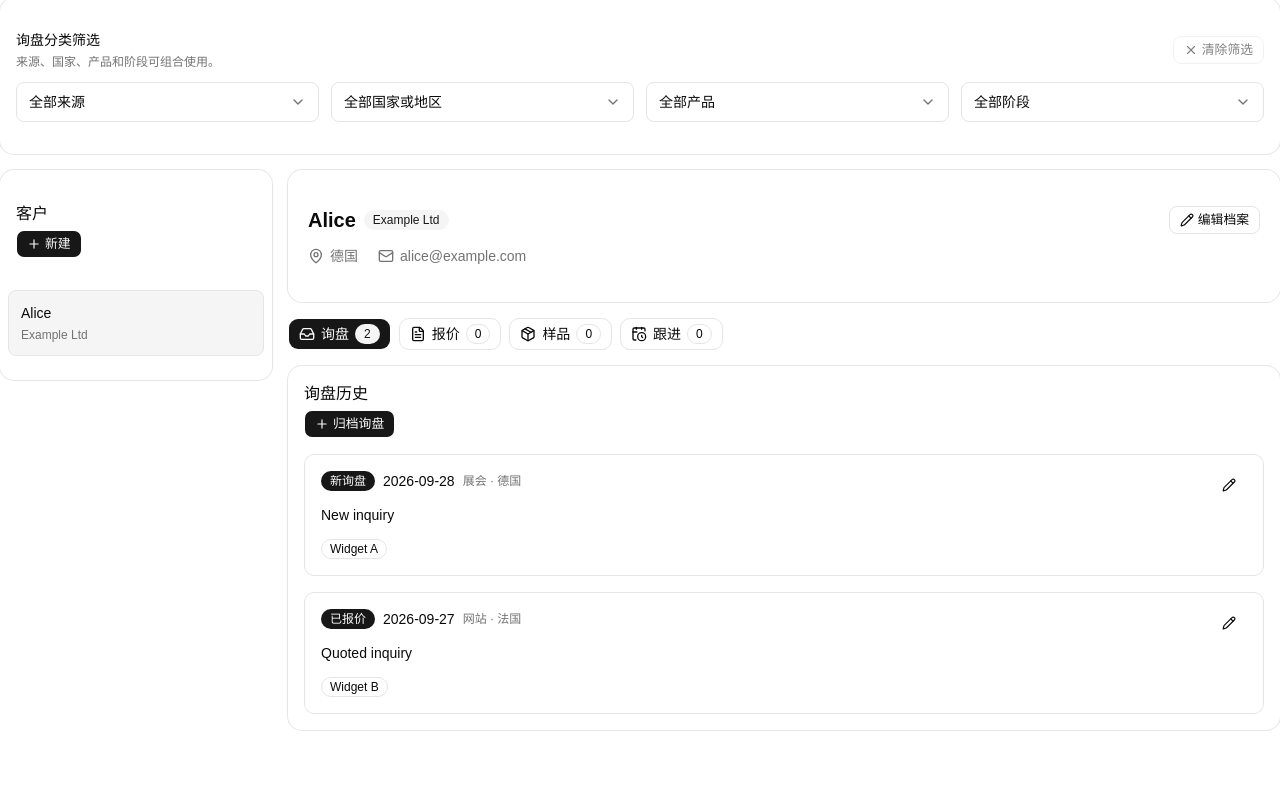
Test: CustomerWorkspace › remounts the editor when switching between records
Step 1. Click the button named "编辑 2026-09-28 询盘" → [1229, 485], box [1211,471,1247,499]
(page scrolled)
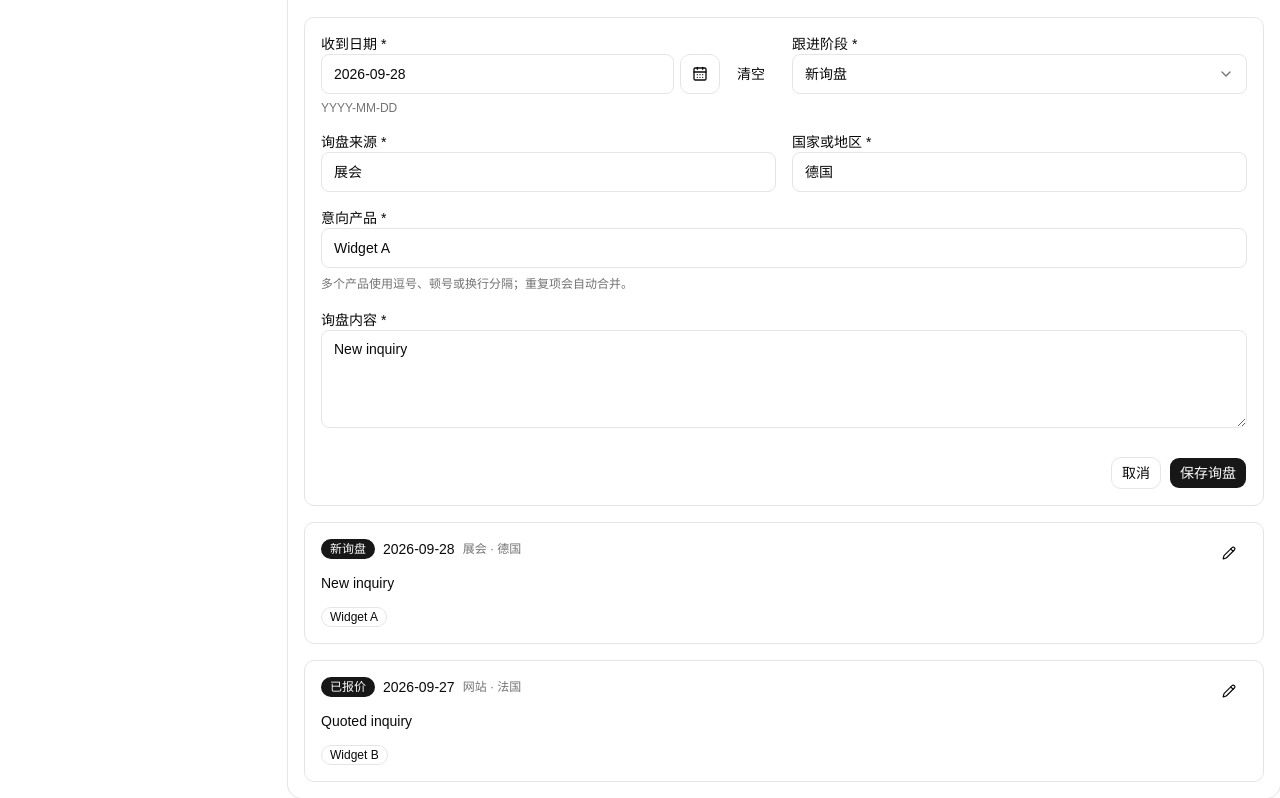
Check: the text box labelled "询盘内容 *" holds "New inquiry", box [321,330,1247,428]
Step 2. Click the button named "编辑 2026-09-27 询盘" → [1229, 691], box [1211,677,1247,705]
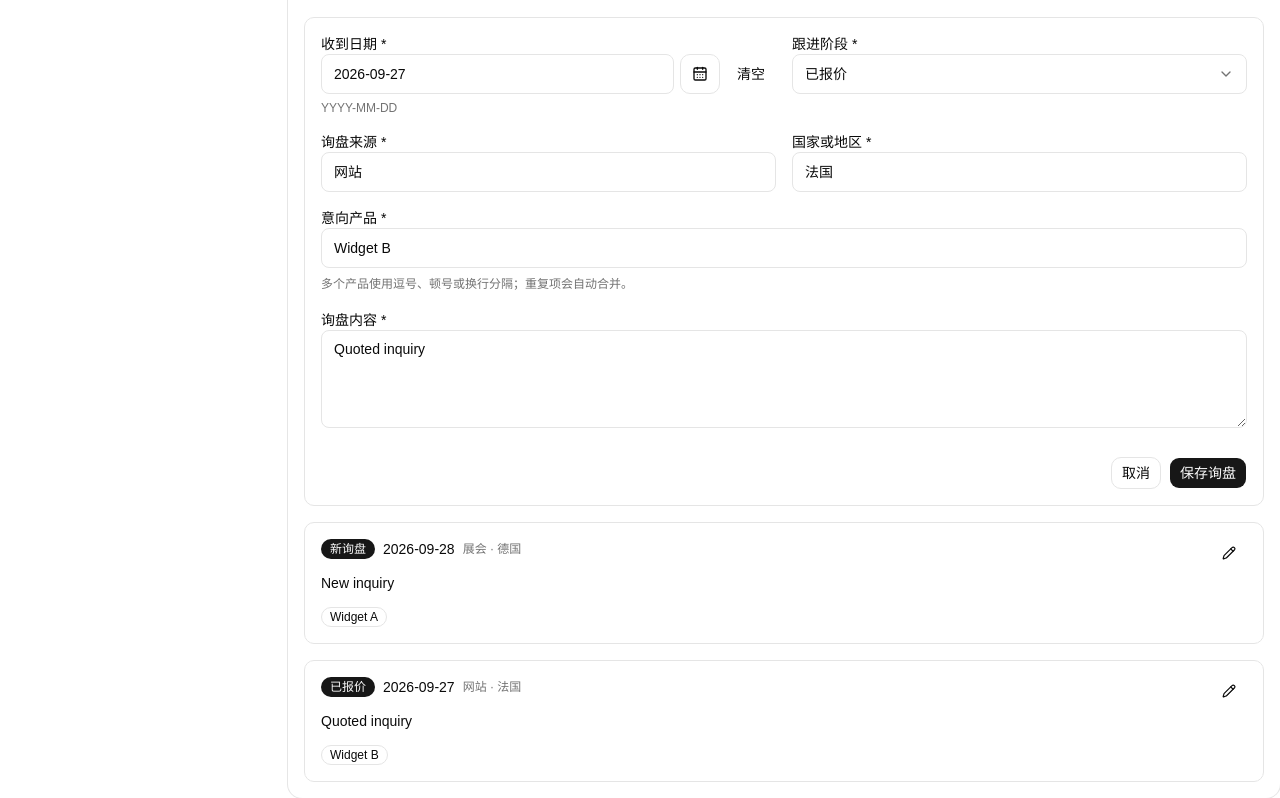
Check: the text box labelled "询盘内容 *" holds "Quoted inquiry", box [321,330,1247,428]
